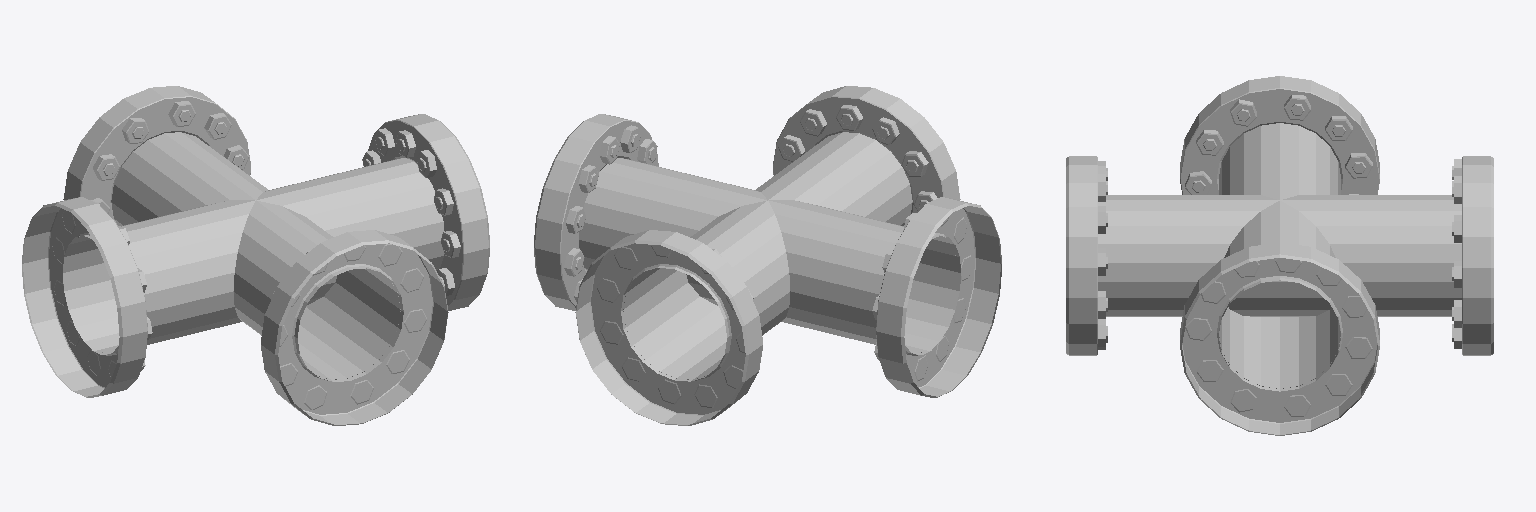
File: CrossPipe.obj
3 renders of one model, left to right at view 1: azimuth 30°, elevation 25°; view 2: azimuth 150°, elevation 25°; view 3: azimuth 270°, elevation 25°, orthographic.
Parts seen in each view (by area): view 1: polySurface83; view 2: polySurface83; view 3: polySurface83.
Part boxes in pixels (x1,y1,x2,y2): polySurface83: (22, 86, 489, 425); polySurface83: (534, 86, 1001, 425); polySurface83: (1066, 76, 1493, 435).
Bounding box in the file's own units: 220 × 103 × 220.